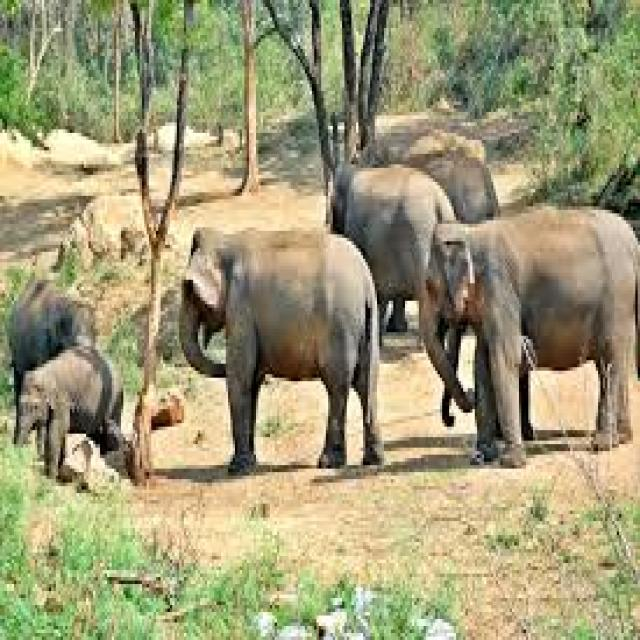Elephant: (421, 203, 638, 465), (177, 224, 384, 472), (328, 161, 456, 343), (12, 343, 123, 479)
